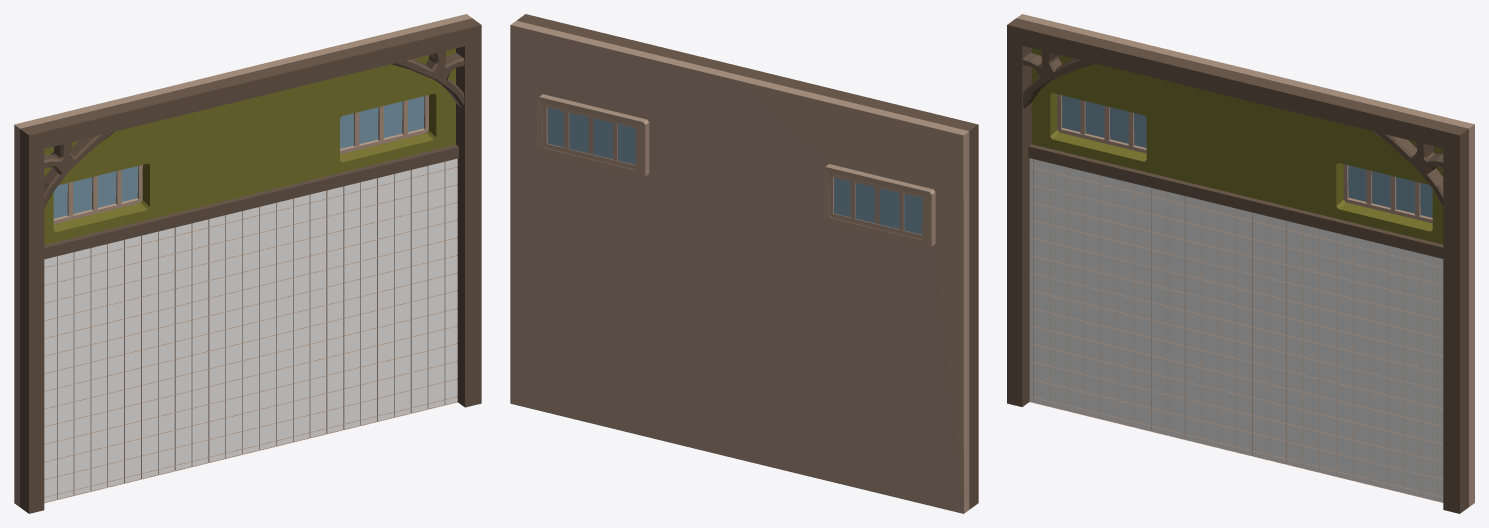
The model's file is Wall_5.fbx.
The picture shows the model from 3 angles, left to right: view 1: azimuth 30°, elevation 25°; view 2: azimuth 150°, elevation 25°; view 3: azimuth 330°, elevation 25°; orthographic projection.
Visible parts, largest first — view 1: Wall_5; view 2: Wall_5; view 3: Wall_5.
Part boxes in pixels (x1,y1,x2,y2): Wall_5: (14,14,481,513); Wall_5: (510,14,978,513); Wall_5: (1007,14,1474,513).
Size of the model in its own units: 488 by 35.96 by 390.
